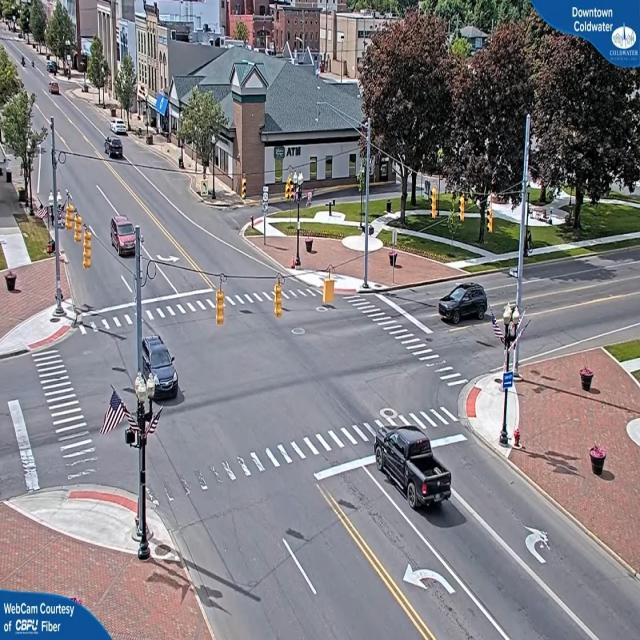car: (372, 423, 452, 510), (141, 336, 182, 404), (439, 284, 489, 326), (110, 215, 138, 257), (111, 119, 128, 136)
